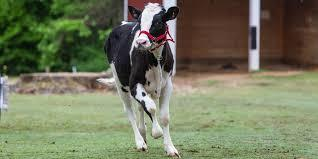cow: (107, 2, 180, 155)
